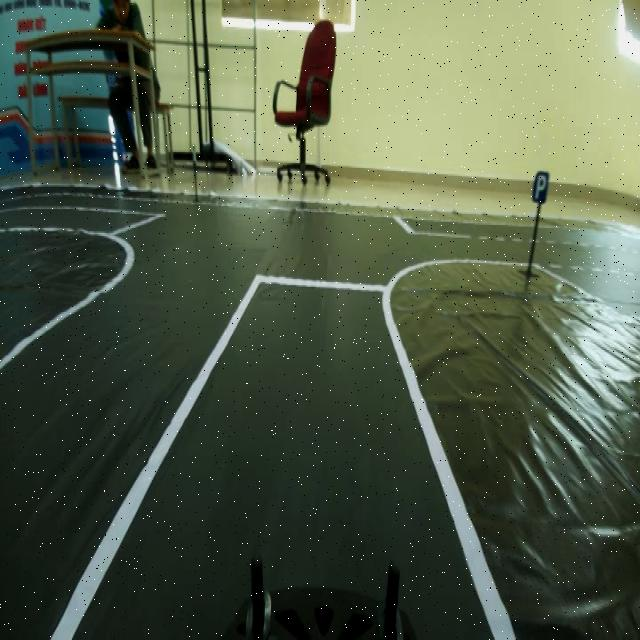parking: (528, 163, 553, 209)
